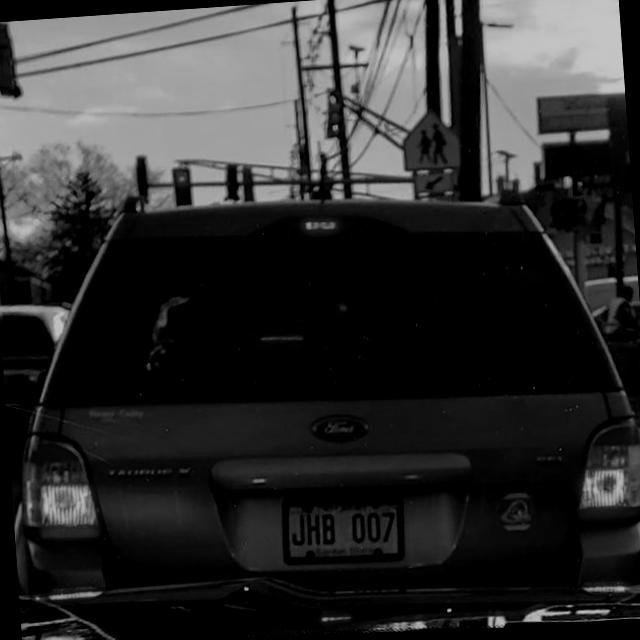LicensePlate: (282, 493, 404, 564)
